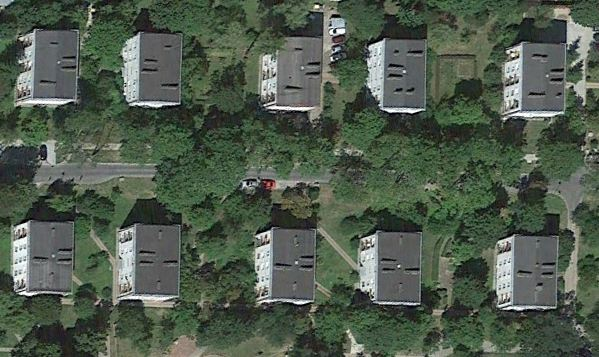block of flats: (112, 218, 186, 306), (248, 220, 322, 308), (8, 216, 78, 298), (355, 226, 425, 307), (492, 230, 562, 311), (500, 39, 570, 120), (362, 34, 432, 115), (255, 31, 325, 112), (114, 29, 184, 110), (11, 25, 81, 106)
